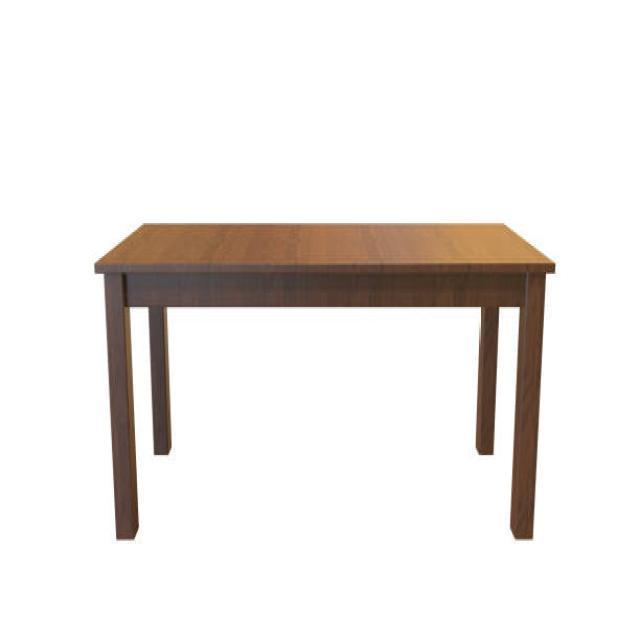table: (93, 220, 555, 542)
